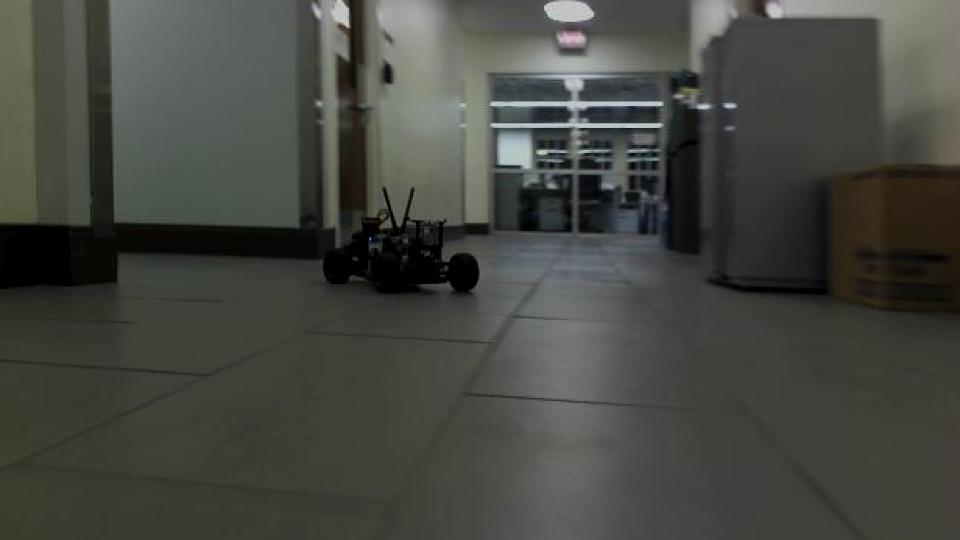car: (318, 184, 481, 297)
